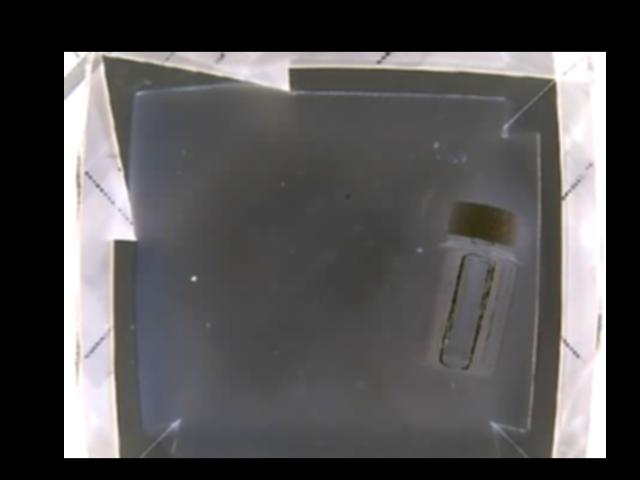Bottle: (410, 200, 523, 373)
